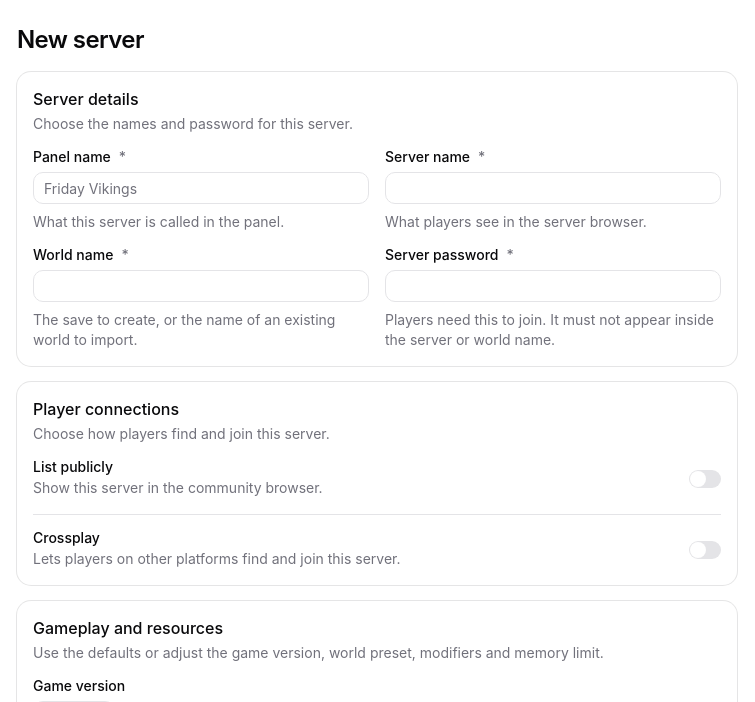
Scenario: the create wizard › stays on the job when provisioning fails
Type "friday" into the field labelled "Panel name *" at (201, 188), box [33, 172, 369, 204]
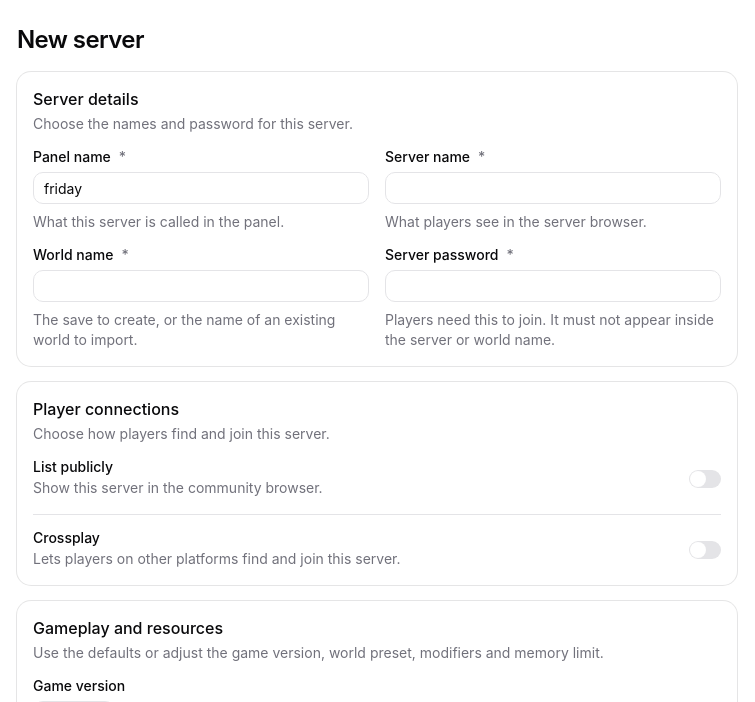
Type "Friday Vikings" into the field labelled "Server name *" at (553, 188), box [385, 172, 721, 204]
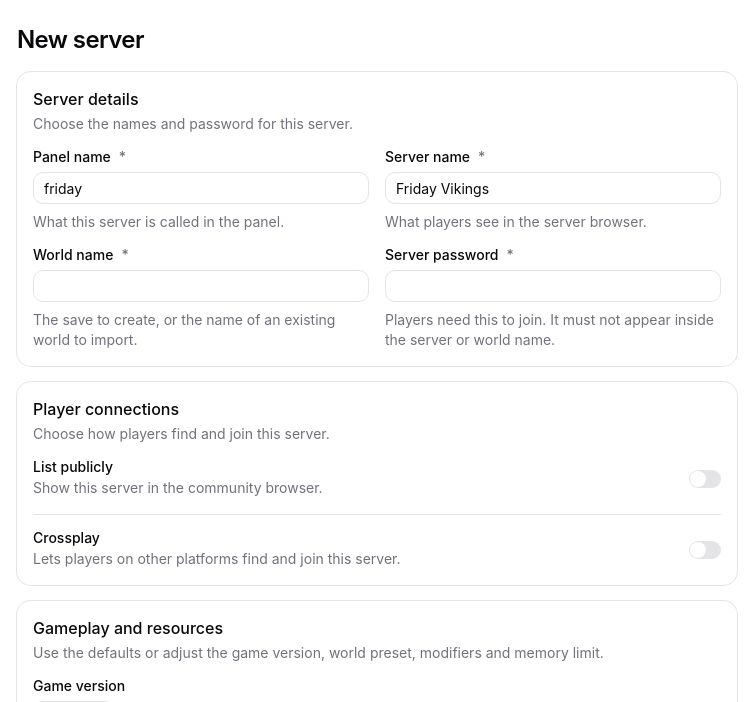
Type "Midgard" into the field labelled "World name *" at (201, 286), box [33, 270, 369, 302]
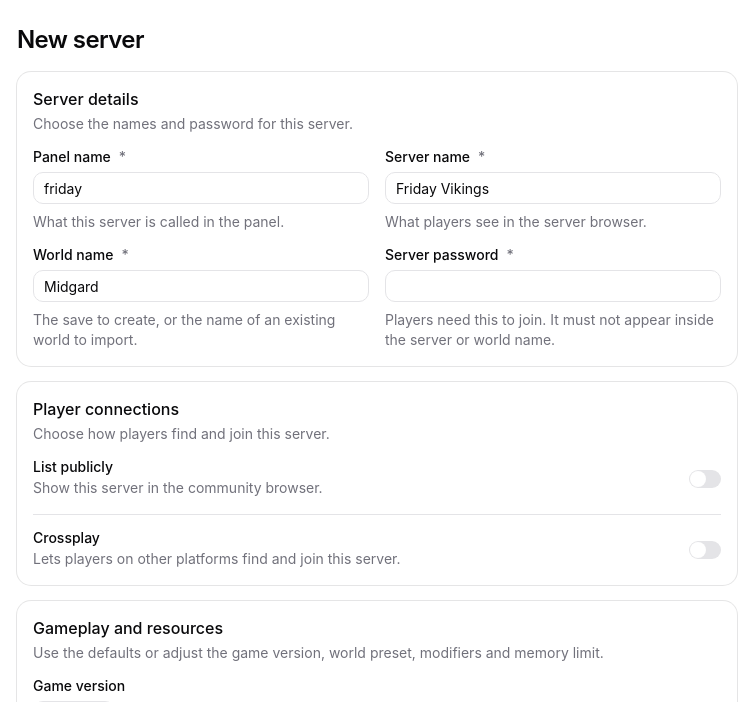
Type "correct-horse" into the password field labelled "Server password *" at (553, 286), box [385, 270, 721, 302]
(page scrolled)
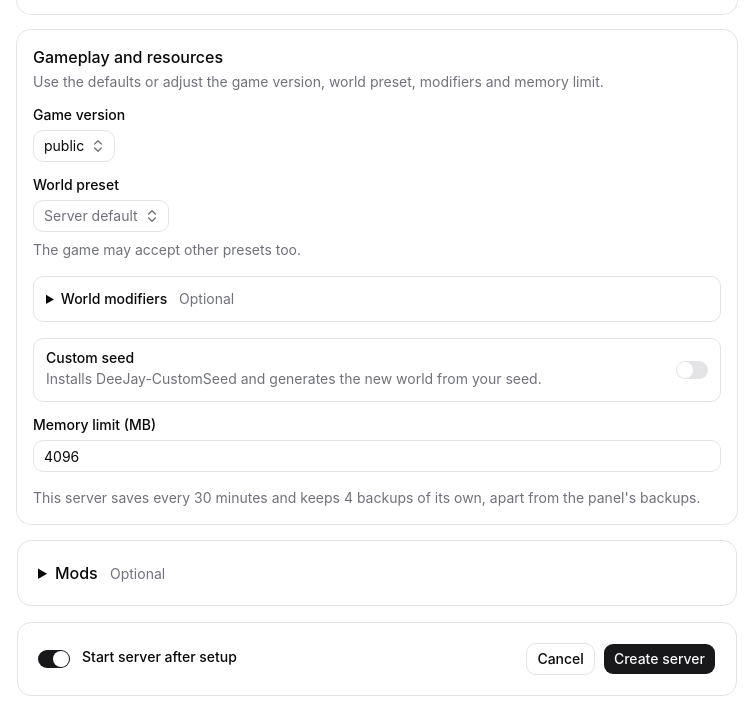
Click the button "Create server" at (659, 659), box [603, 643, 716, 675]
(page scrolled)
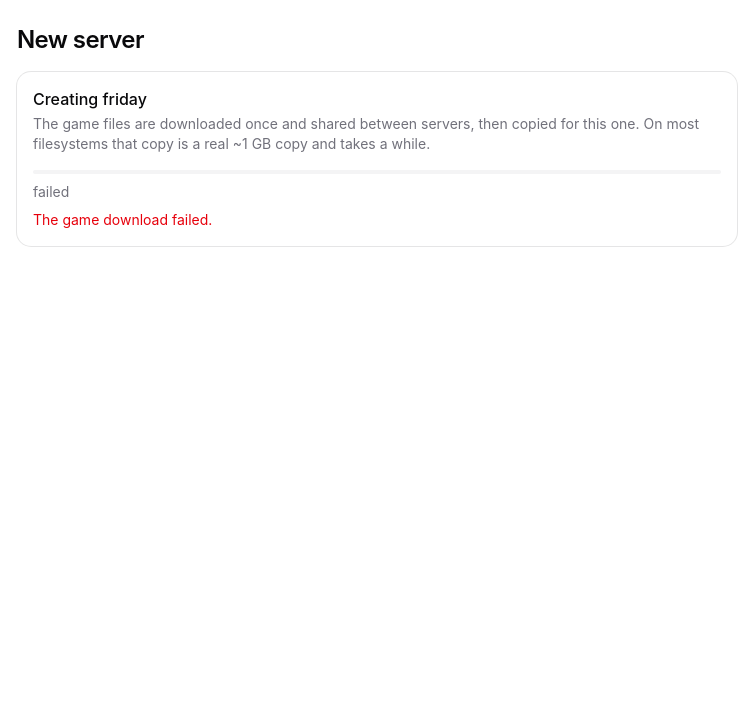
Check: the text "The game download failed." is shown, box [33, 211, 212, 228]
